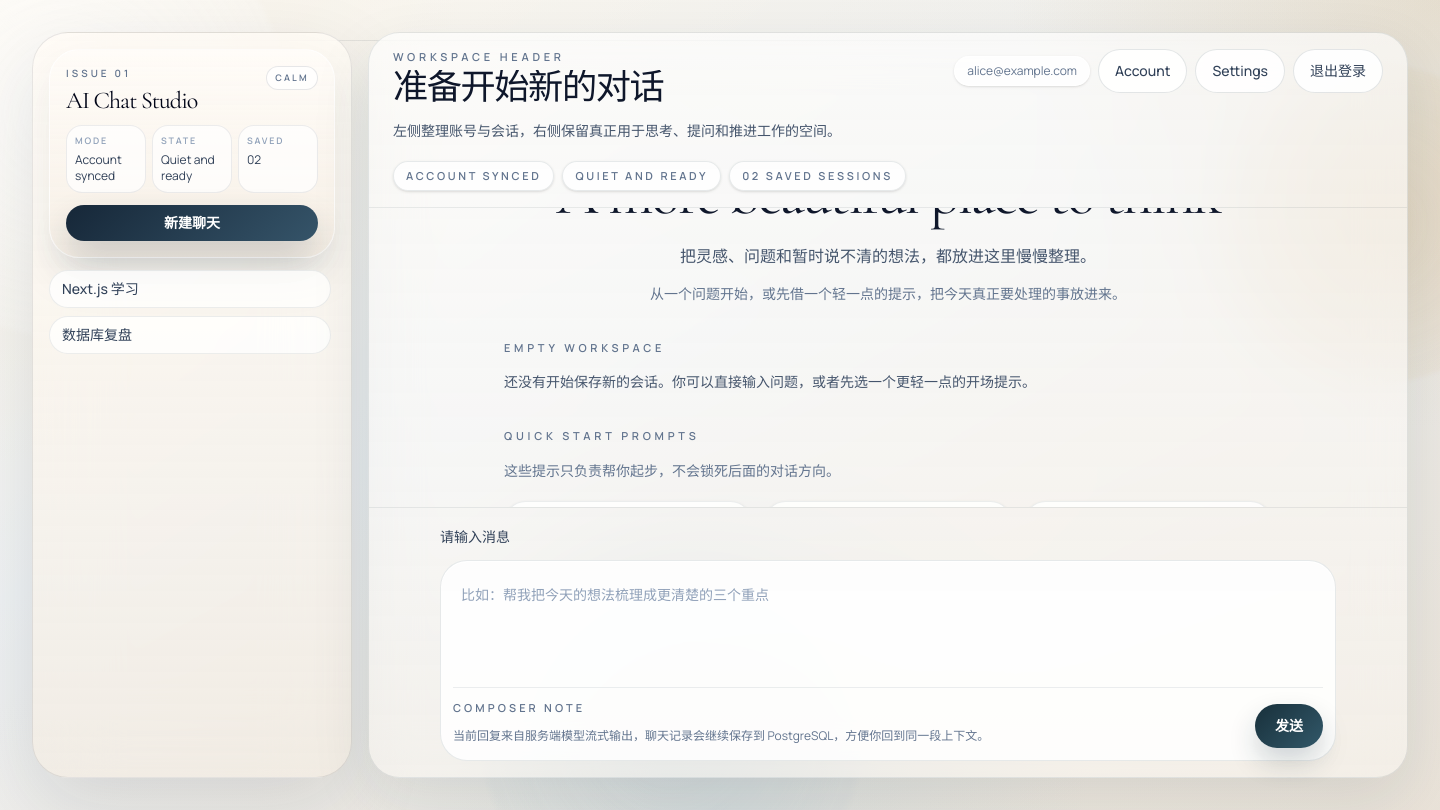
Scenario: ChatApp › loads the clicked conversation from the server
Click the button "数据库复盘" at point(97, 334), box [49, 316, 331, 354]
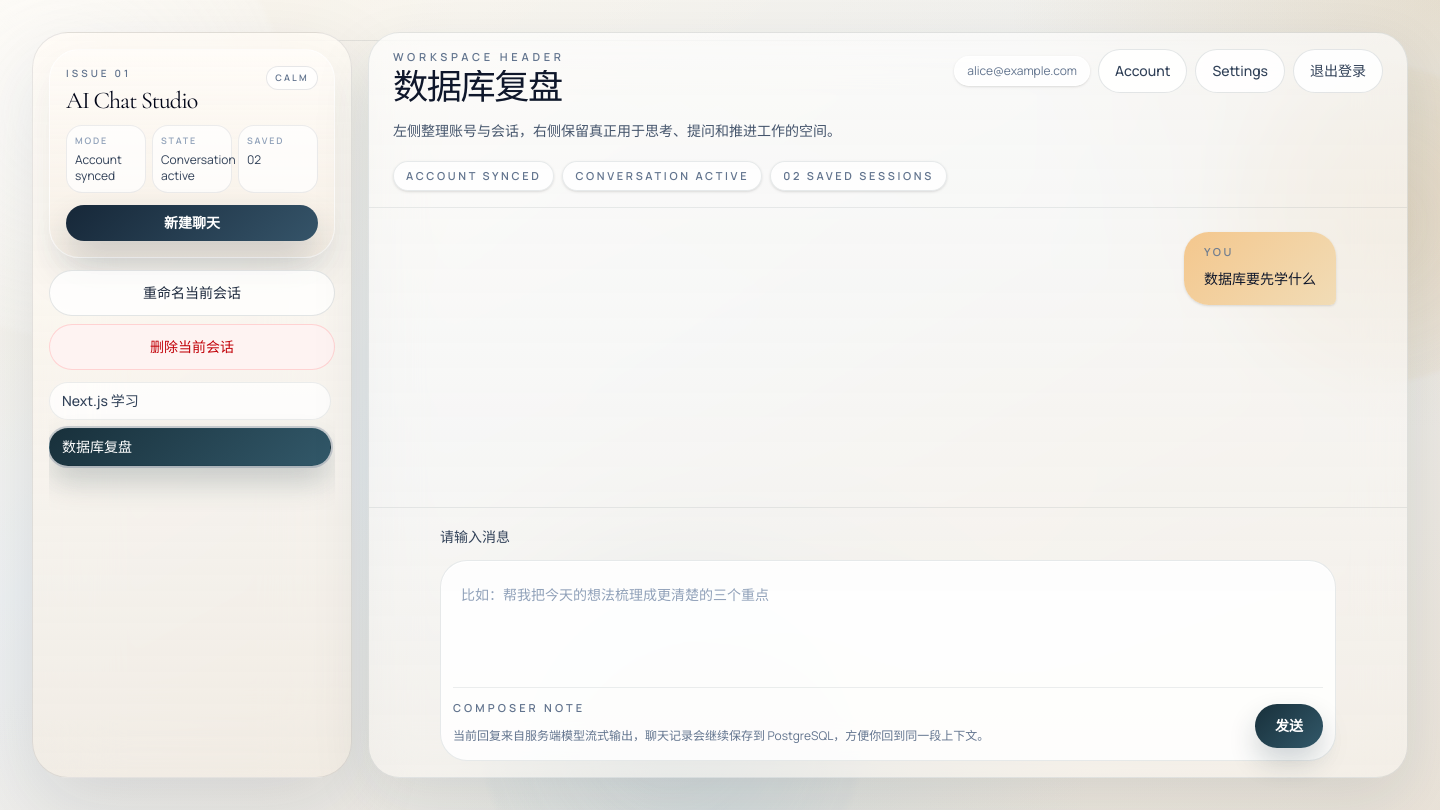
Now the text "数据库要先学什么" is shown, box [1204, 265, 1316, 293]
